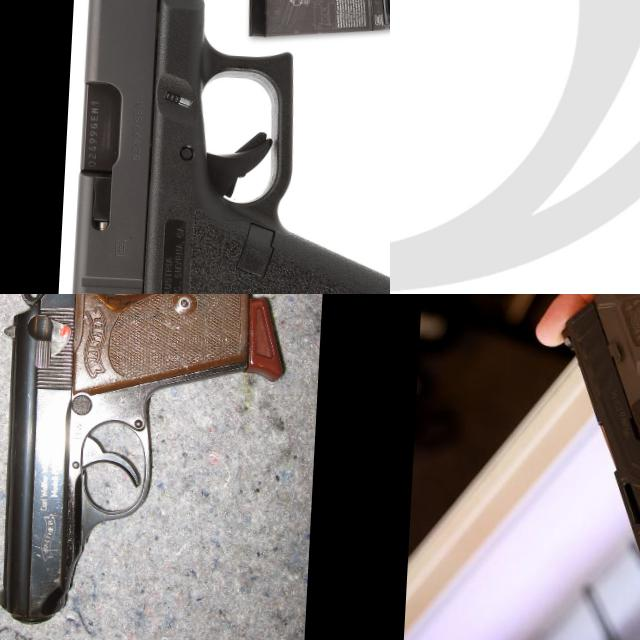handgun: (49, 0, 390, 294), (0, 294, 263, 634), (390, 0, 576, 248), (541, 294, 640, 640), (0, 294, 138, 505)
